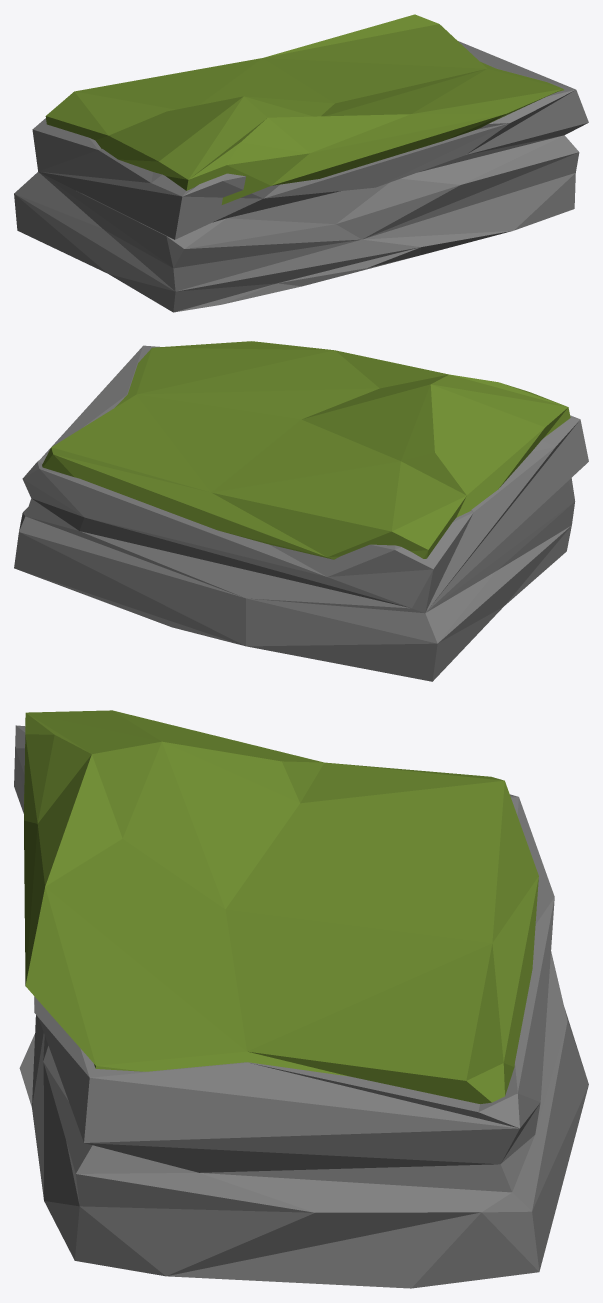
Rendered from Stone_6_moss_mat.fbx.
3 views of the same model, one above another, from view 1: azimuth 30°, elevation 25°; view 2: azimuth 150°, elevation 25°; view 3: azimuth 270°, elevation 25° (orthographic). The views are drawn at different scales.
Visible parts, largest first — view 1: Stone_6_moss_mat; view 2: Stone_6_moss_mat; view 3: Stone_6_moss_mat.
Part boxes in pixels (bbox=[...]): Stone_6_moss_mat: bbox=[14, 14, 588, 312]; Stone_6_moss_mat: bbox=[14, 341, 588, 681]; Stone_6_moss_mat: bbox=[14, 710, 588, 1288].
Bounding box in the file's own units: 243 × 100 × 167.
